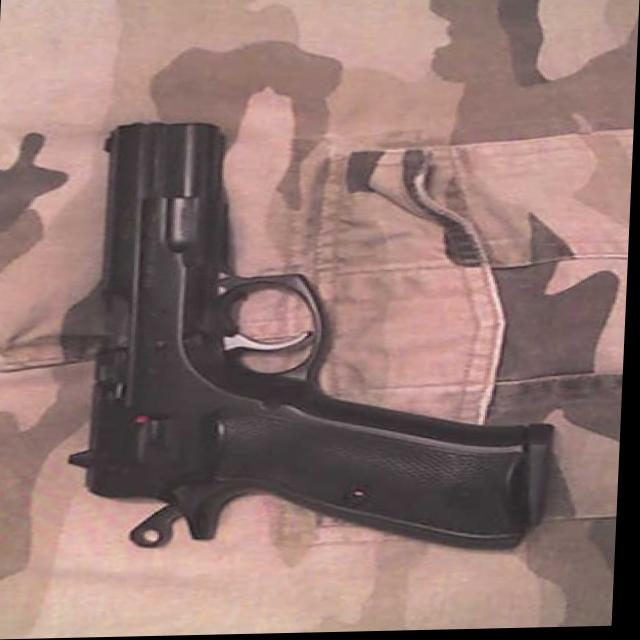handgun: (66, 114, 558, 566)
